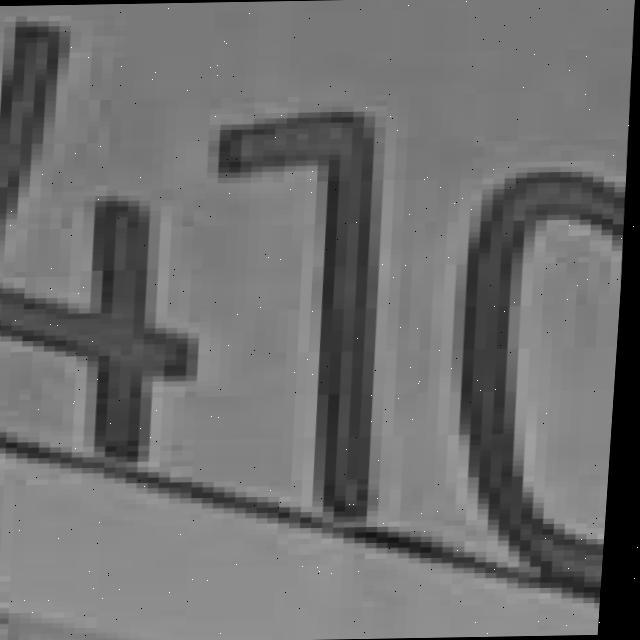character: (0, 7, 244, 479), (187, 97, 420, 535), (409, 149, 630, 600)
